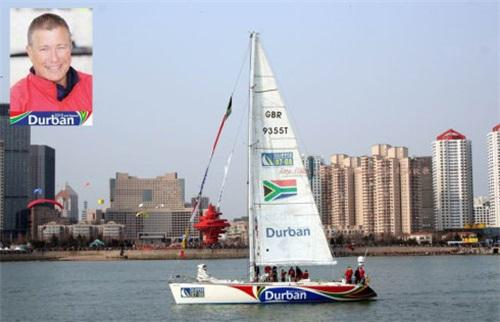Ship: (170, 32, 379, 305)
